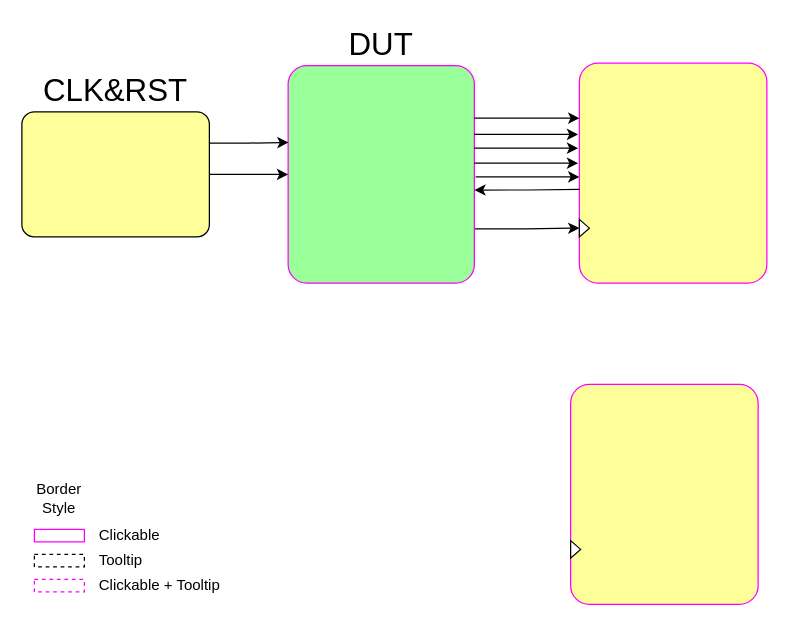
Image size: 789x626. Some labels were removed from this diagram. The centre of each missing label's shape, as x and y in pixels:
MT9V111: (672,172)
UM232H-B: (663,493)
